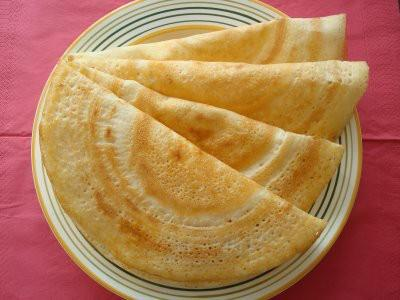Dosa: (38, 61, 329, 288), (71, 65, 343, 211), (82, 61, 369, 142), (65, 13, 346, 62)
